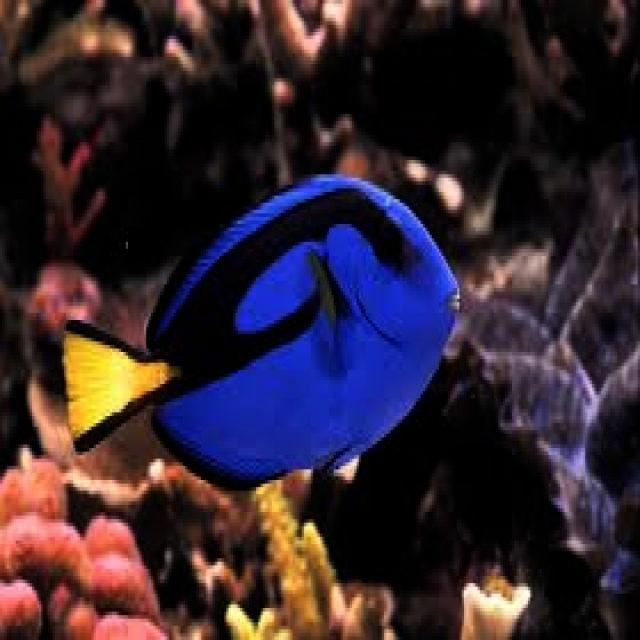TangFish: (63, 174, 458, 488)
